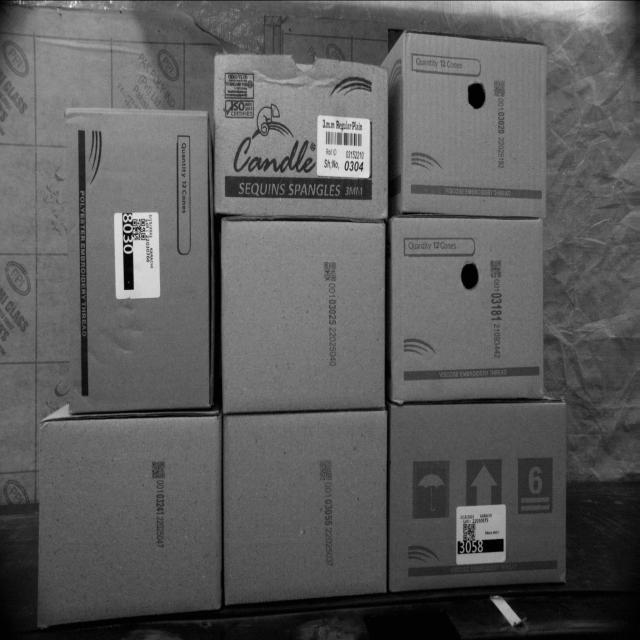box: (61, 105, 214, 414), (36, 412, 222, 626), (224, 413, 388, 609), (392, 403, 566, 584), (224, 215, 386, 409), (214, 58, 388, 218), (389, 218, 547, 394), (399, 28, 546, 214)
